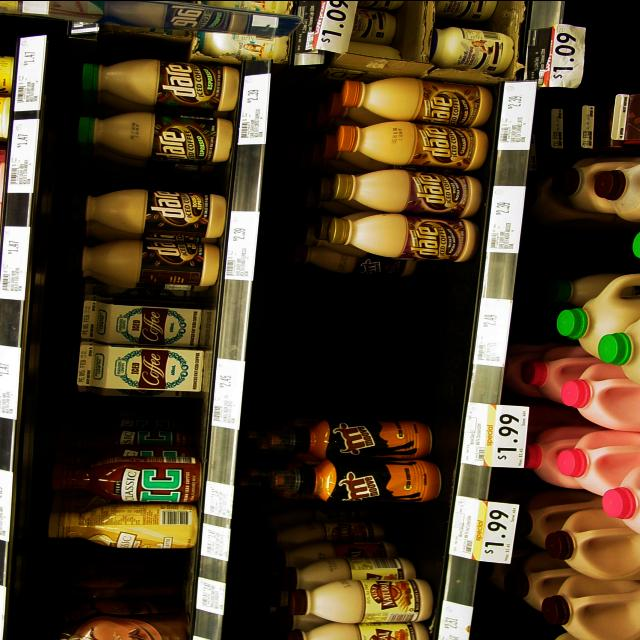empty_space: (267, 278, 461, 411), (51, 546, 186, 580), (64, 396, 196, 427)
